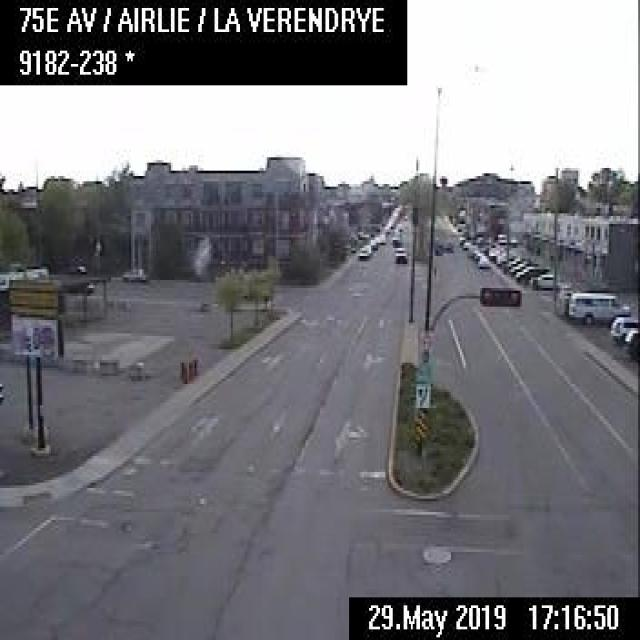construction: (178, 358, 186, 382), (190, 354, 198, 377), (185, 358, 192, 380)
vehicle: (568, 286, 630, 324), (514, 262, 550, 283), (610, 314, 636, 342), (530, 270, 556, 288), (623, 327, 637, 359), (120, 263, 146, 280), (356, 241, 371, 259), (475, 255, 493, 269), (393, 244, 407, 262), (471, 248, 484, 259), (390, 234, 400, 247), (466, 244, 477, 255), (375, 231, 385, 243), (368, 237, 378, 248), (461, 238, 470, 248), (457, 235, 464, 243)
